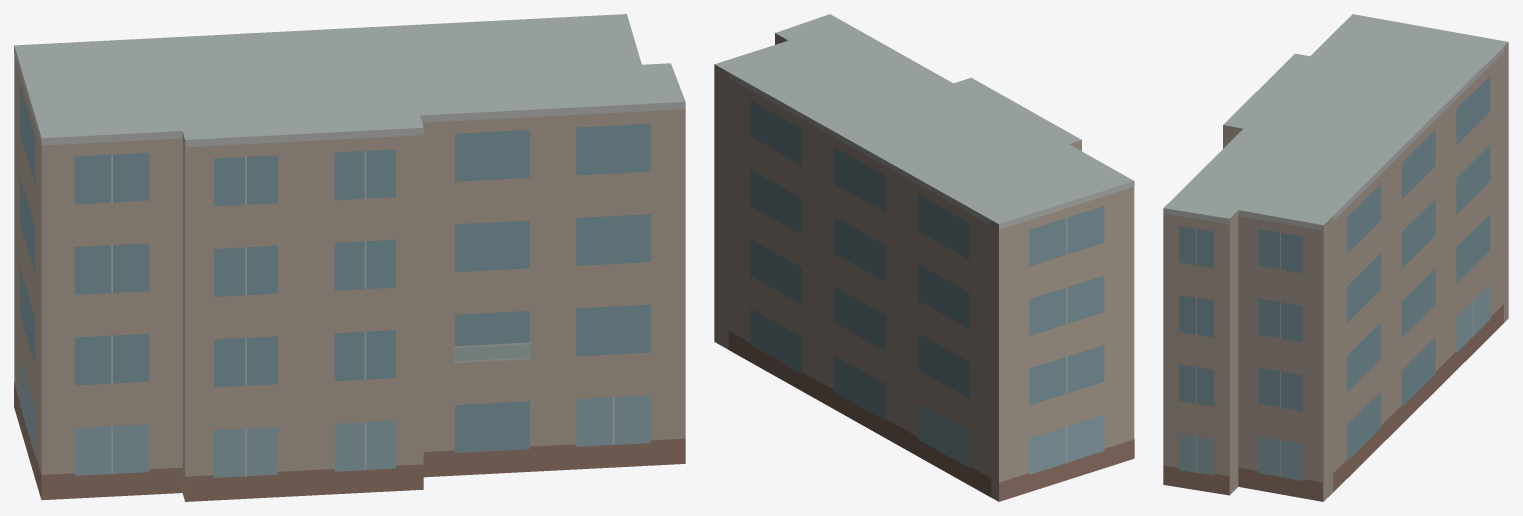
The model's file is survey-upis-32750515.glb.
The picture shows the model from 3 angles, left to right: view 1: azimuth 30°, elevation 25°; view 2: azimuth 150°, elevation 25°; view 3: azimuth 270°, elevation 25°; orthographic projection. The views are drawn at different scales.
Visible parts, largest first — view 1: survey-upis-32750515.tmp; view 2: survey-upis-32750515.tmp; view 3: survey-upis-32750515.tmp.
Boxes of the visible parts, box(x1,y1,x2,y2) form: survey-upis-32750515.tmp: box(14, 14, 685, 501); survey-upis-32750515.tmp: box(714, 14, 1134, 501); survey-upis-32750515.tmp: box(1163, 14, 1508, 501).
Size of the model in its own units: 19.49 by 11.9 by 13.46.
